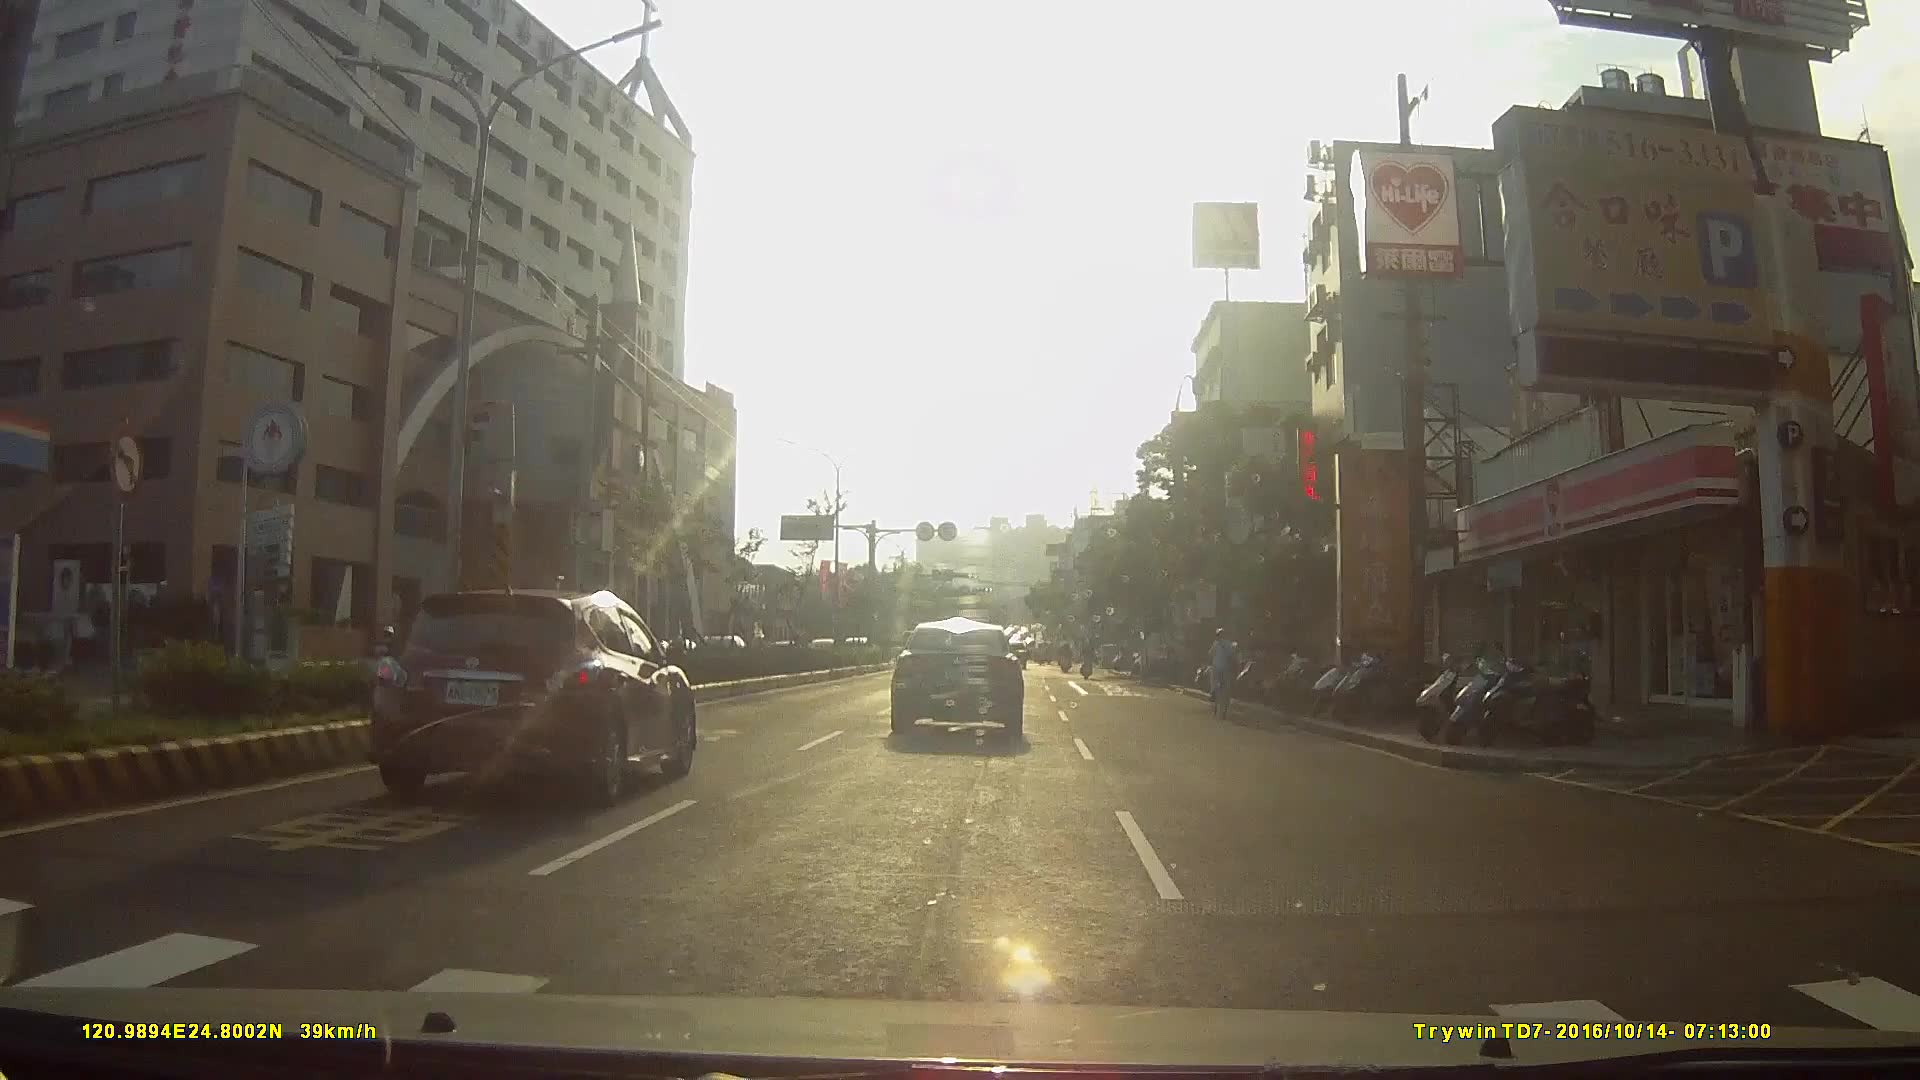rider: (1202, 628, 1240, 712)
vehicle: (357, 571, 713, 807), (888, 615, 1040, 749), (763, 607, 822, 662), (1133, 626, 1187, 680)
